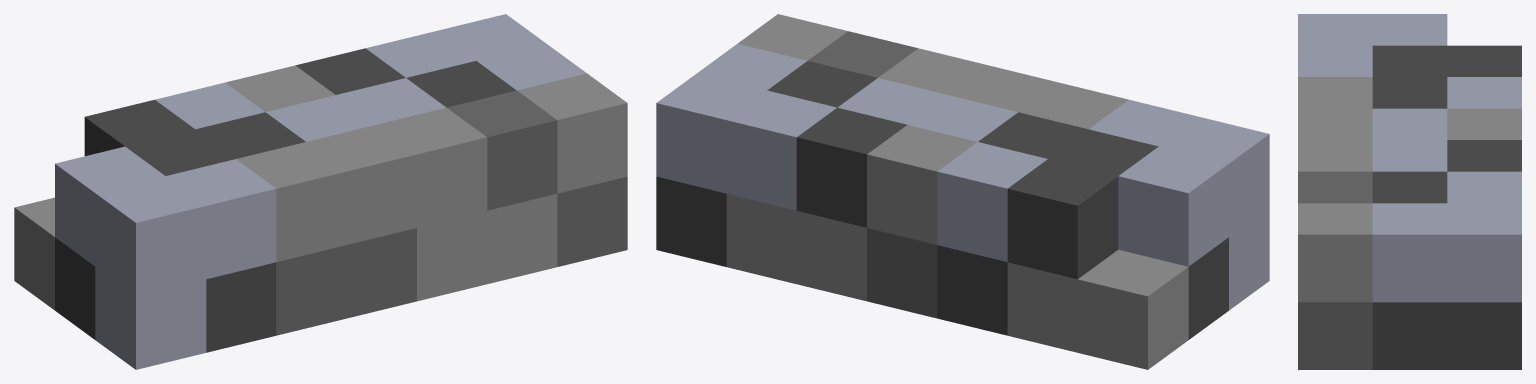
File: Medieval Assets-192-Graveyard - Grave marker.obj
3 renders of one model, left to right at view 1: azimuth 30°, elevation 25°; view 2: azimuth 150°, elevation 25°; view 3: azimuth 270°, elevation 25°, orthographic. The views are drawn at different scales.
Parts seen in each view (by area): view 1: Graveyard - Grave marker; view 2: Graveyard - Grave marker; view 3: Graveyard - Grave marker.
Part boxes in pixels (<box>): Graveyard - Grave marker: <box>14,14,627,369</box>; Graveyard - Grave marker: <box>656,14,1269,369</box>; Graveyard - Grave marker: <box>1298,14,1521,369</box>.
Size of the model in its own units: 0.7 by 0.2 by 0.3.
1 material, 1 textured.
